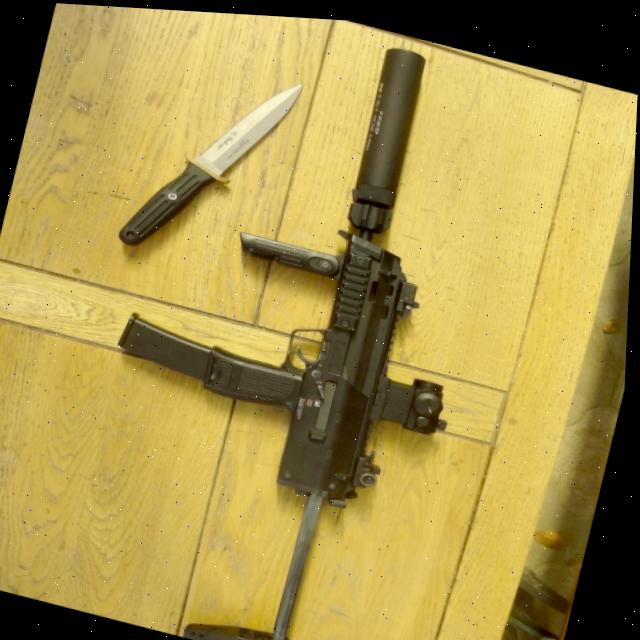firearm: (64, 4, 533, 640)
knife: (113, 42, 309, 280)
